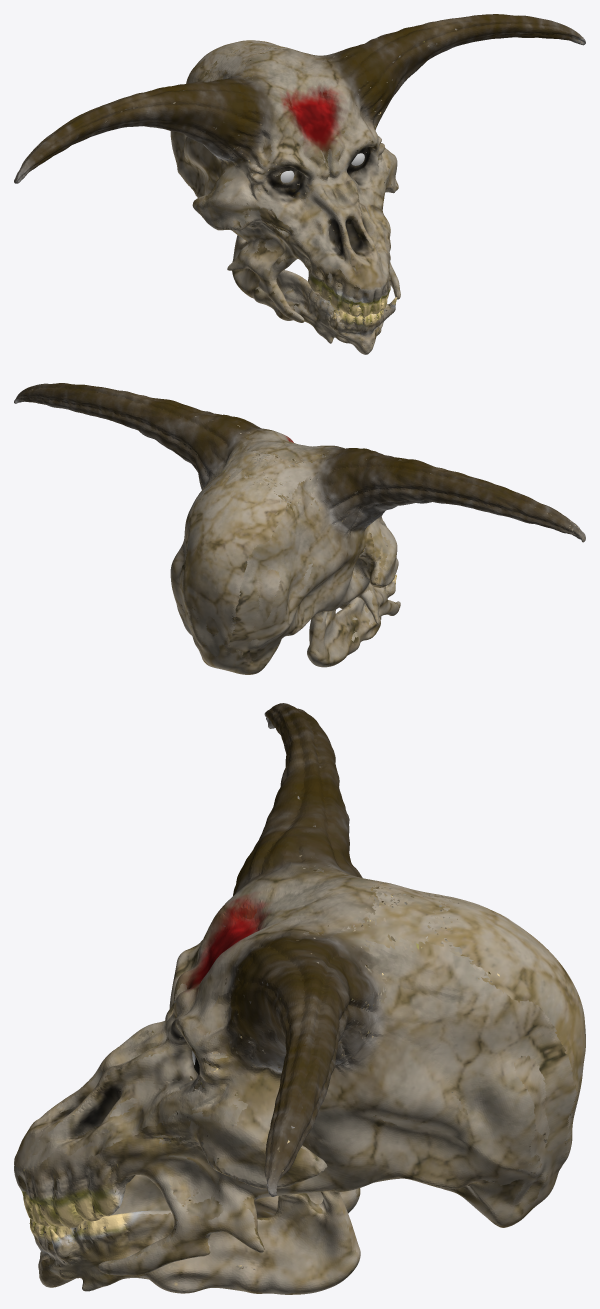
File: demonman.fbx
3 views of the same model, one above another, from view 1: azimuth 30°, elevation 25°; view 2: azimuth 150°, elevation 25°; view 3: azimuth 270°, elevation 25° (orthographic). The views are drawn at different scales.
Parts seen in each view (by area): view 1: Sphere; view 2: Sphere; view 3: Sphere.
Boxes of the visible parts, x1,y1,x2,y2 form: Sphere: (14, 14, 585, 354); Sphere: (14, 383, 585, 674); Sphere: (14, 703, 585, 1294).
Size of the model in its own units: 786 by 315 by 403.
